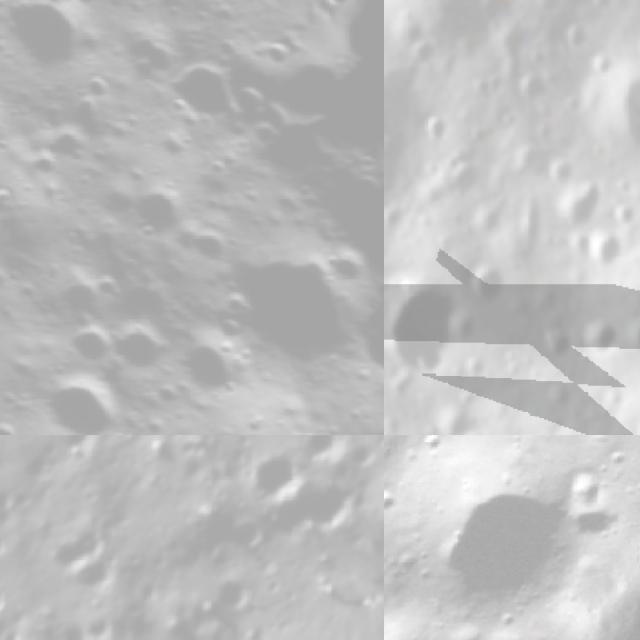crater: (384, 435, 635, 640), (208, 226, 379, 398), (159, 319, 263, 423), (0, 0, 115, 91), (153, 37, 255, 139), (384, 265, 464, 384), (278, 462, 374, 550), (546, 443, 638, 532), (29, 359, 135, 435), (40, 261, 128, 349), (228, 437, 320, 518), (187, 494, 276, 574), (107, 269, 186, 347), (118, 175, 196, 253), (42, 501, 113, 585), (591, 45, 640, 166), (109, 314, 182, 388), (539, 175, 610, 249), (170, 216, 240, 288), (22, 0, 159, 36), (318, 229, 384, 298), (498, 139, 573, 196), (64, 313, 129, 377), (34, 112, 96, 175), (222, 74, 280, 133), (207, 563, 264, 623), (349, 307, 384, 390), (0, 78, 25, 182), (466, 251, 513, 305), (296, 435, 363, 470), (576, 309, 618, 363), (253, 30, 298, 74), (516, 61, 556, 104), (538, 314, 573, 361), (561, 11, 598, 54), (422, 112, 454, 153), (0, 408, 41, 435), (624, 303, 640, 372), (0, 319, 14, 382), (455, 425, 492, 435)
